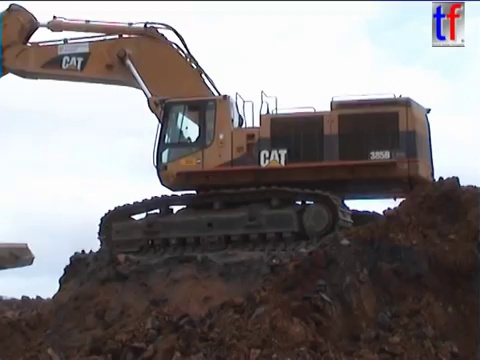excavator: (1, 1, 440, 267)
truck: (1, 239, 37, 274)
